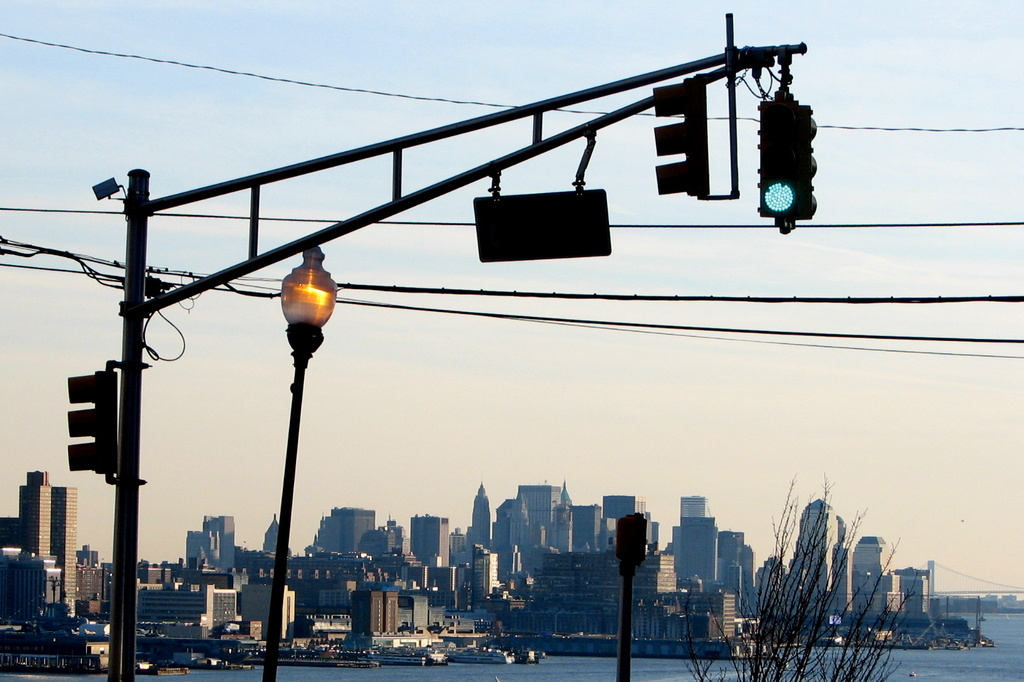green_light: (766, 109, 807, 219)
